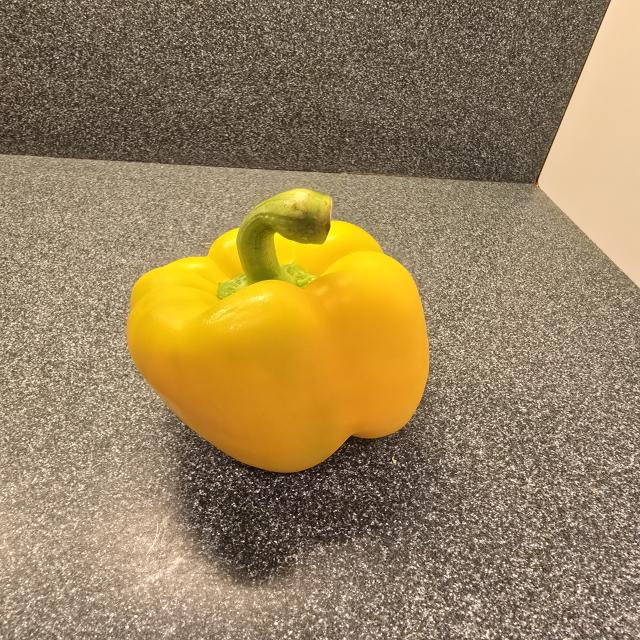Bell Pepper: (110, 181, 443, 482)
